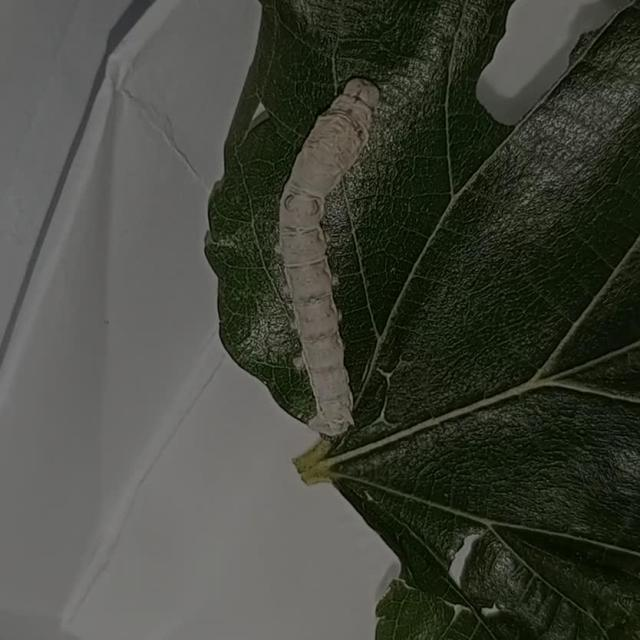Healthy: (248, 42, 422, 456)
